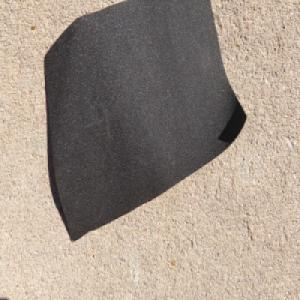PaintChip: (43, 0, 248, 245)
